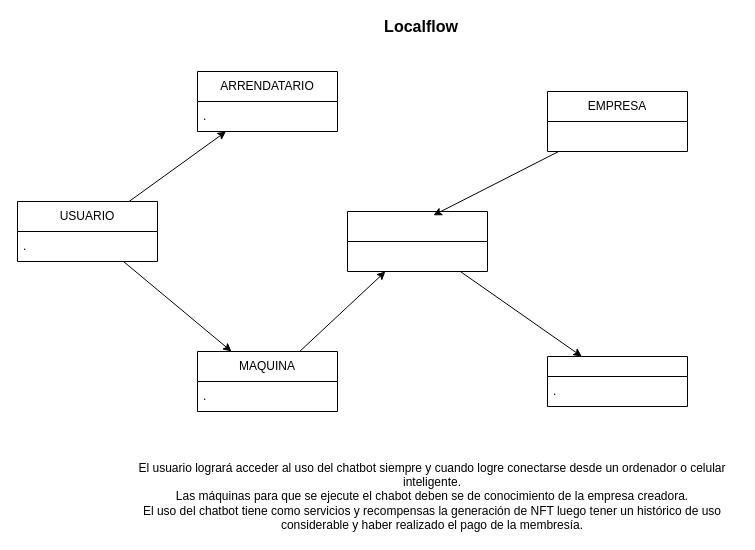
Some shapes in this 755 by 550 pixel diagram are drawn without their labels. The shapes that lost their labels are listed below. From the top down, each one's box as (x1, y1, x2, y2) in pixels, then its label:
(346, 210, 488, 272): CHAT
(546, 356, 688, 406): NFT
